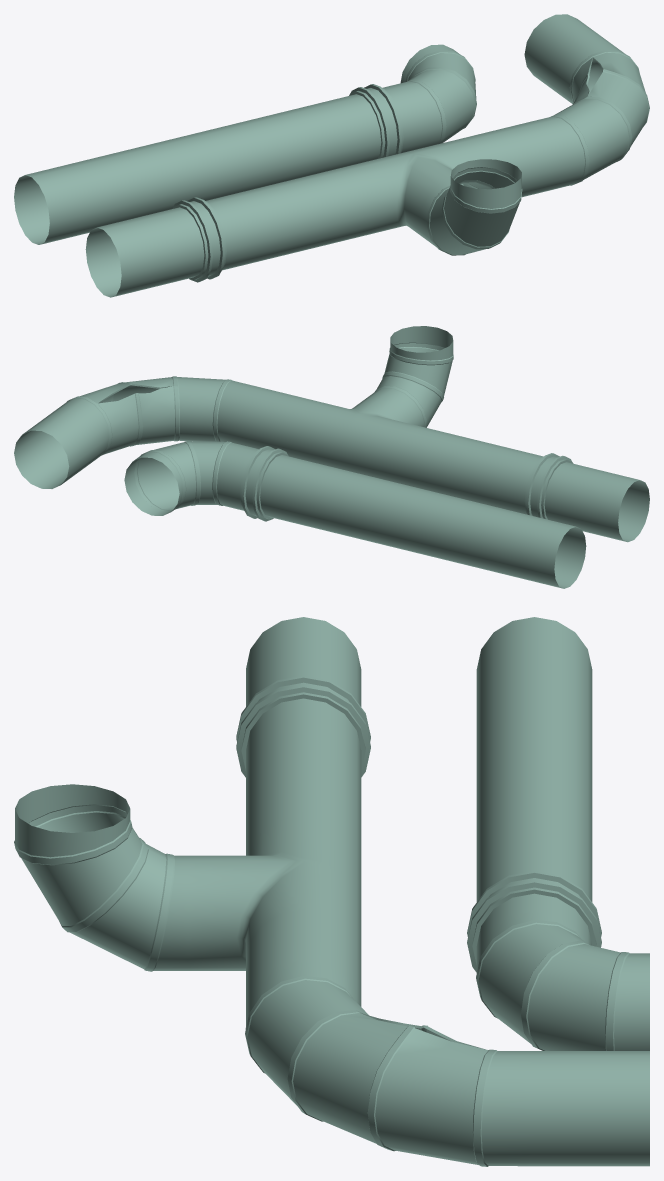
The model's file is PipeComplexLarge_B_07.fbx.
3 renders of one model, top to bottom at view 1: azimuth 30°, elevation 25°; view 2: azimuth 150°, elevation 25°; view 3: azimuth 270°, elevation 25°, orthographic. The views are drawn at different scales.
Parts seen in each view (by area): view 1: PipeComplexLarge_B_07.001; view 2: PipeComplexLarge_B_07.001; view 3: PipeComplexLarge_B_07.001.
Part boxes in pixels (box(x1,y1,x2,y2)): PipeComplexLarge_B_07.001: box(14, 14, 649, 297); PipeComplexLarge_B_07.001: box(14, 326, 649, 588); PipeComplexLarge_B_07.001: box(14, 617, 649, 1166).
Size of the model in its own units: 1.9 by 0.3167 by 1.1.
